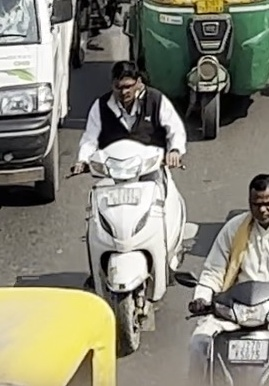BikeWithRider: (59, 56, 202, 359), (170, 169, 269, 386)
NoHelmet: (107, 57, 145, 105), (242, 171, 269, 229)
